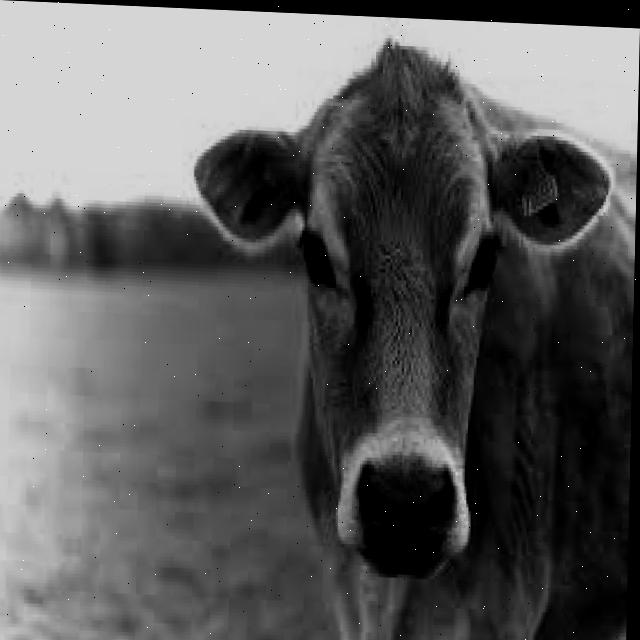Cow: (181, 26, 637, 640)
